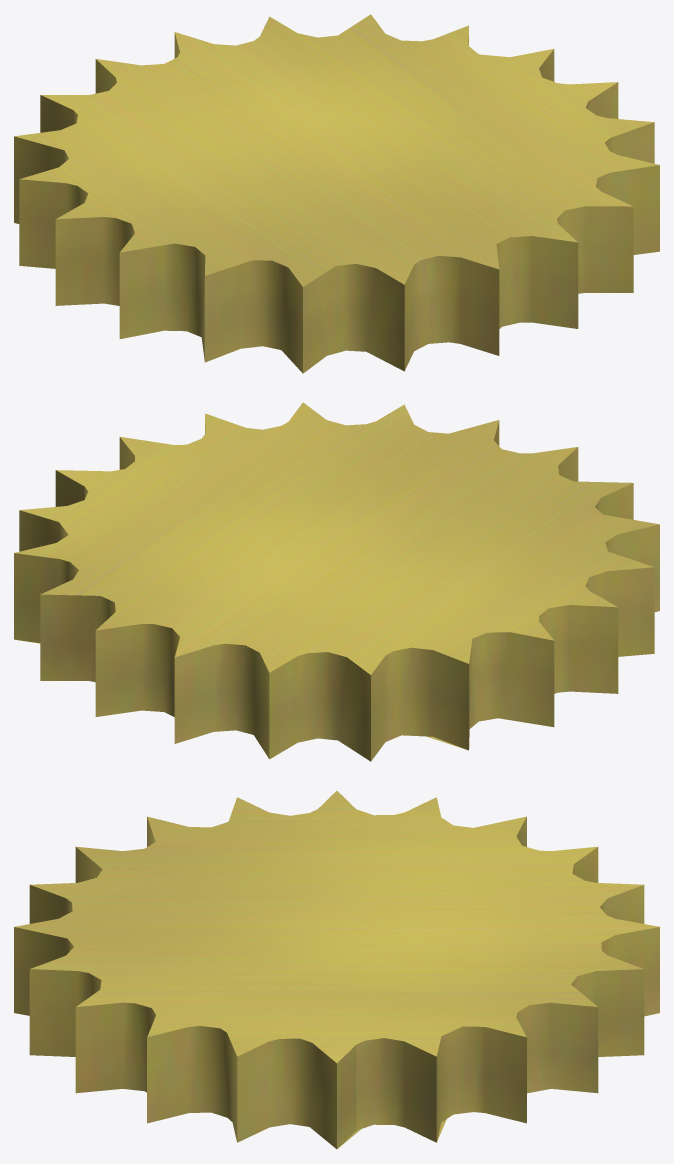
The model's file is Sprocket3Spoke020.fbx.
3 renders of one model, top to bottom at view 1: azimuth 30°, elevation 25°; view 2: azimuth 150°, elevation 25°; view 3: azimuth 270°, elevation 25°, orthographic.
Parts seen in each view (by area): view 1: Sprocket3Spoke020; view 2: Sprocket3Spoke020; view 3: Sprocket3Spoke020.
Boxes of the visible parts, x1,y1,x2,y2 form: Sprocket3Spoke020: [14, 14, 659, 373]; Sprocket3Spoke020: [14, 402, 659, 761]; Sprocket3Spoke020: [14, 791, 659, 1148].
Bounding box in the file's own units: 134 × 19.69 × 134.
